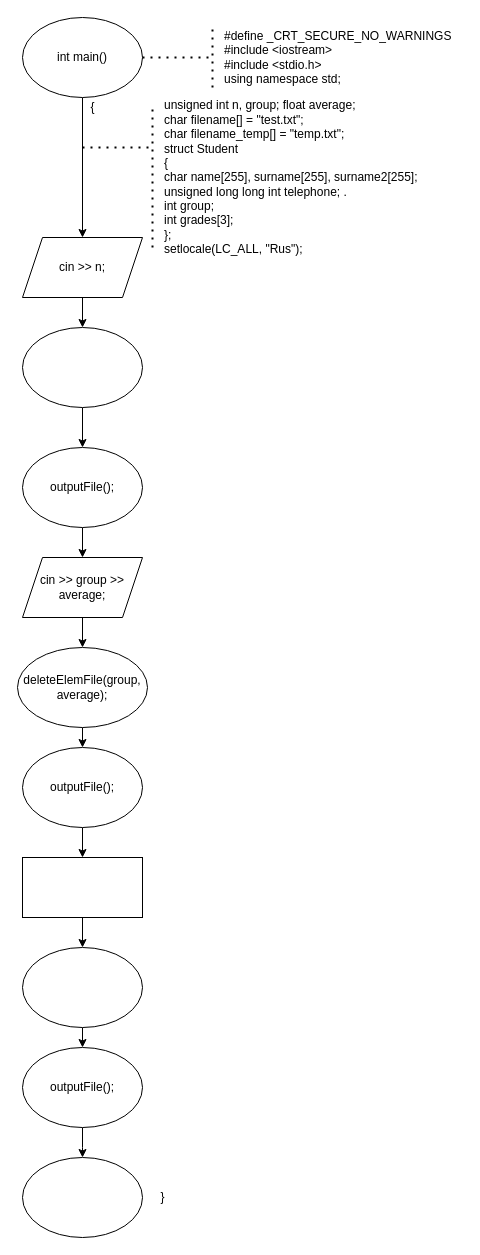
Some shapes in this 480 by 1255 pixel diagram are drawn without their labels. Here are the shapes that lost their labels. From the top down, the centre of each, then its label:
At point (82, 367): "createFile();".
At point (82, 887): "Student student;".
At point (82, 987): "addElemFile(student)".
At point (82, 1197): "return 0;".
